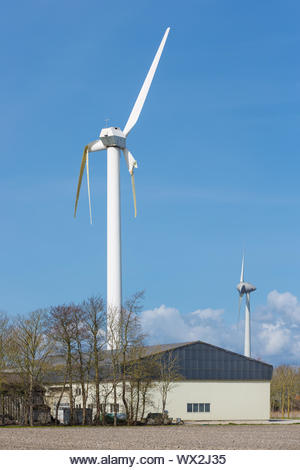faulty: (68, 109, 154, 253), (228, 248, 261, 342)
